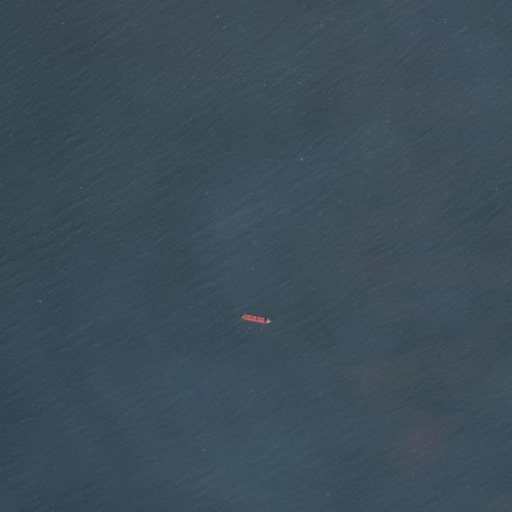ship: (237, 311, 274, 328)
